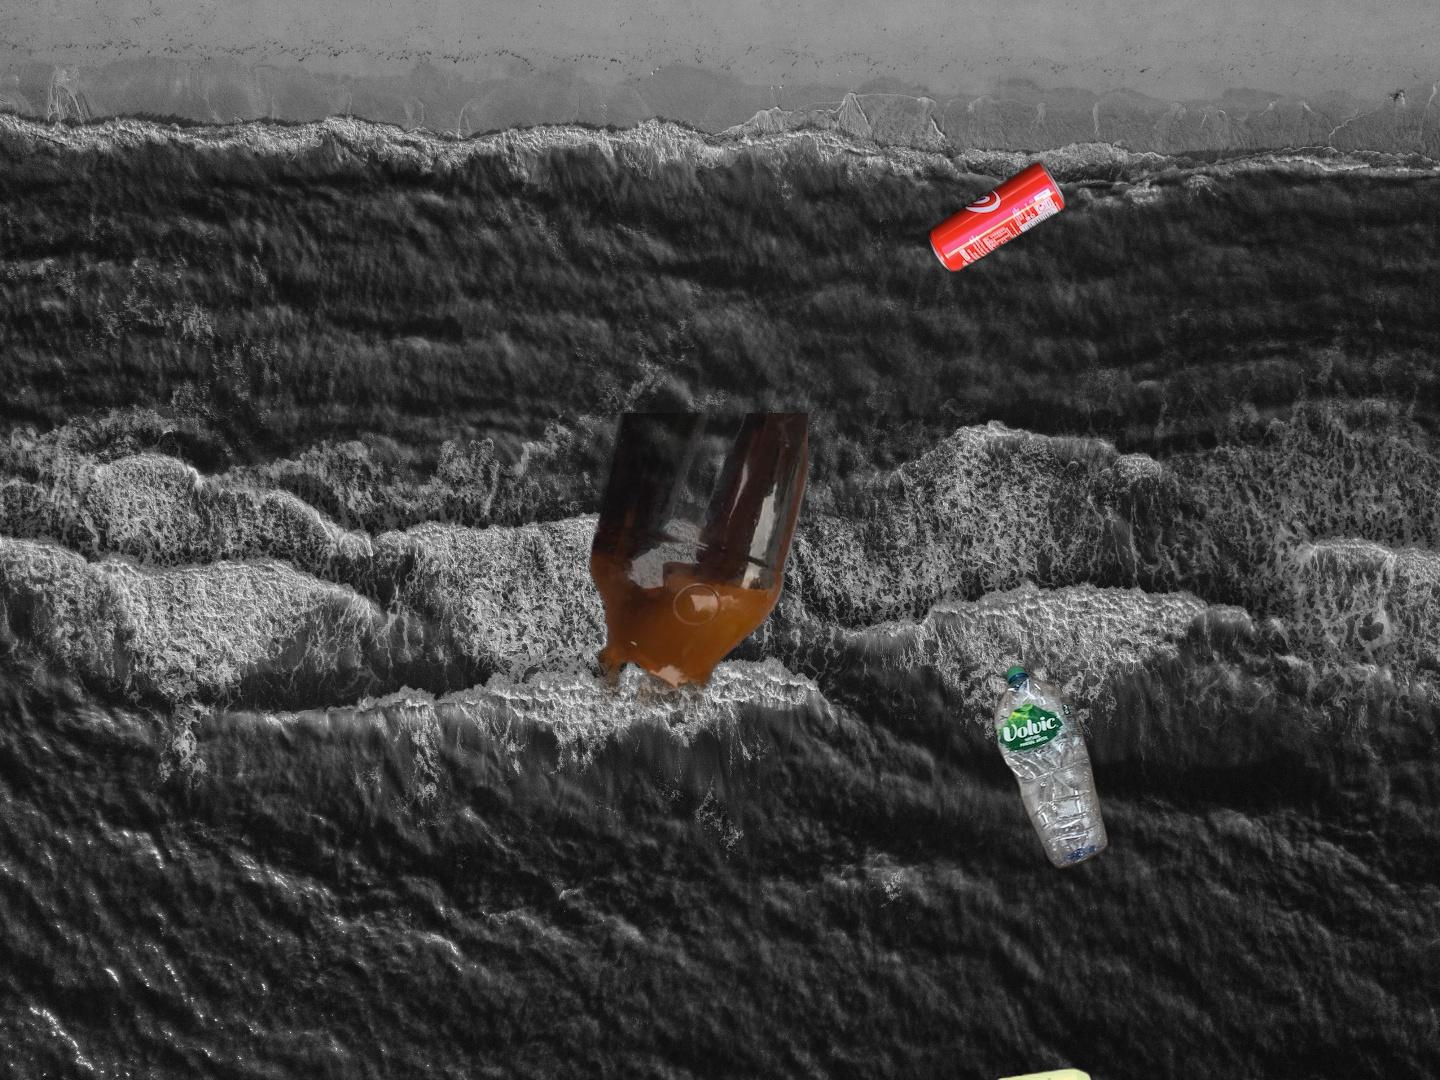glass: (558, 413, 808, 798)
metal-cans: (925, 154, 1070, 279), (786, 1062, 1274, 1080)
plastic-bottles: (989, 659, 1113, 877)
